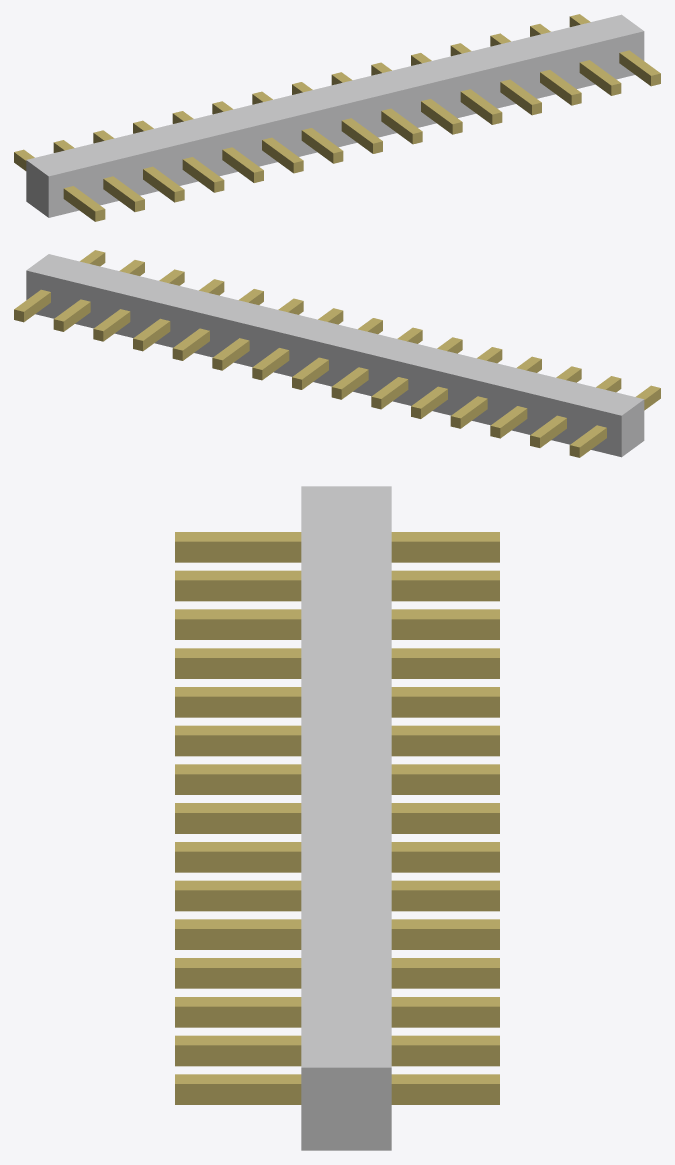
File: pin_header_254_15pin.glb
3 renders of one model, top to bottom at view 1: azimuth 30°, elevation 25°; view 2: azimuth 150°, elevation 25°; view 3: azimuth 270°, elevation 25°, orthographic. The views are drawn at different scales.
Visible parts, largest first — view 1: housing, pins; view 2: housing, pins; view 3: pins, housing.
Boxes of the visible parts, x1,y1,x2,y2 form: housing: (26,14,644,217); pins: (14,14,660,221); housing: (26,254,644,457); pins: (14,250,660,457); pins: (175,532,499,1104); housing: (301,486,391,1150).
Bounding box in the file's own units: 38.1 × 2.54 × 9.
